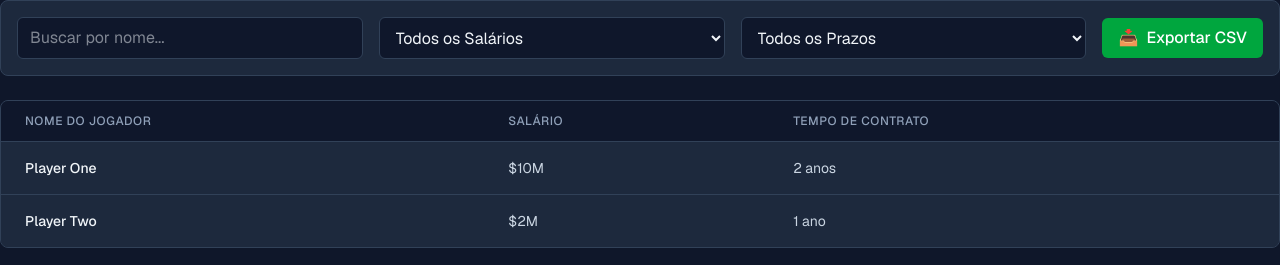
it: ActiveContractsReport › filters by time remaining
# Select expiring (1 year)
Select "Expirando (1 ano)" in the dropdown named "Filtrar por tempo de contrato" at [914, 38], box top-left (741, 17), bottom-right (1086, 59)
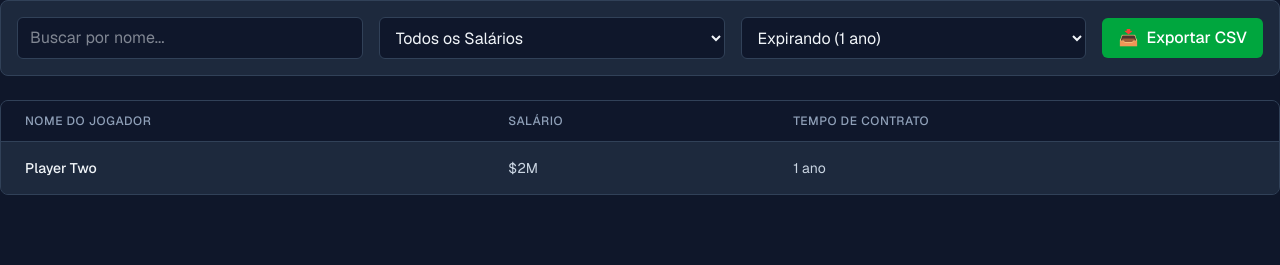
Check: the text "Player Two" is shown, box top-left (1, 142), bottom-right (484, 194)
Check: the text "Player One" is gone
